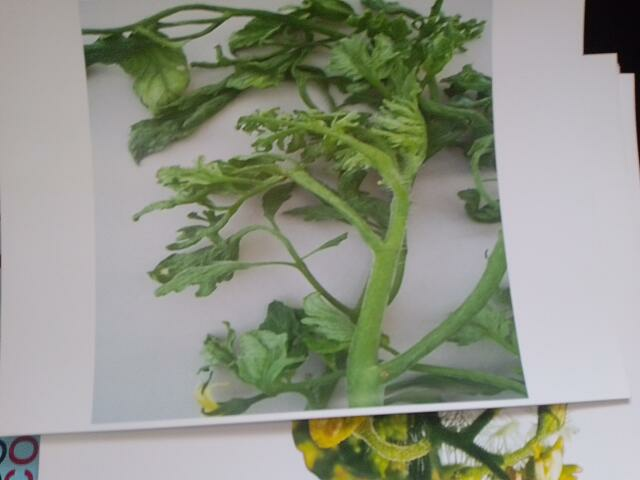Grape_Blight_Leaf: (223, 106, 544, 431)
